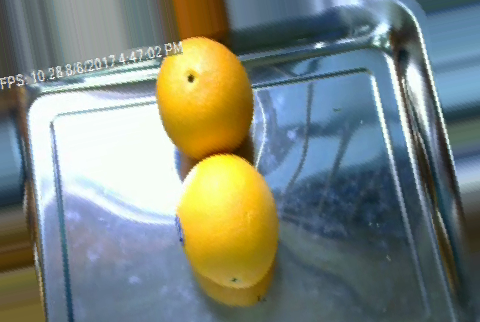Orange: (175, 152, 278, 288), (153, 35, 252, 157)
